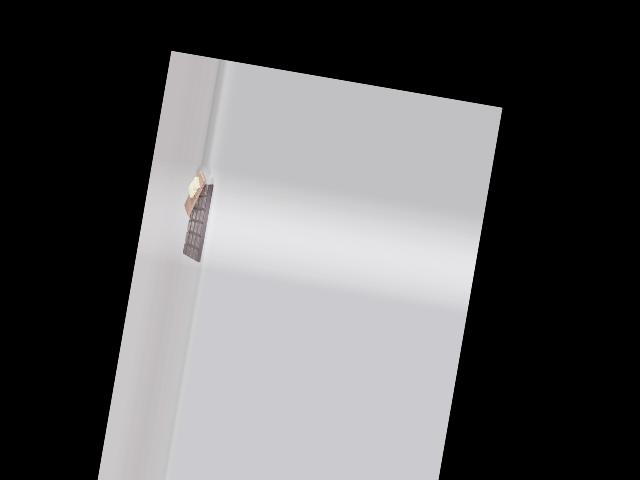chocolate: (178, 176, 217, 263)
